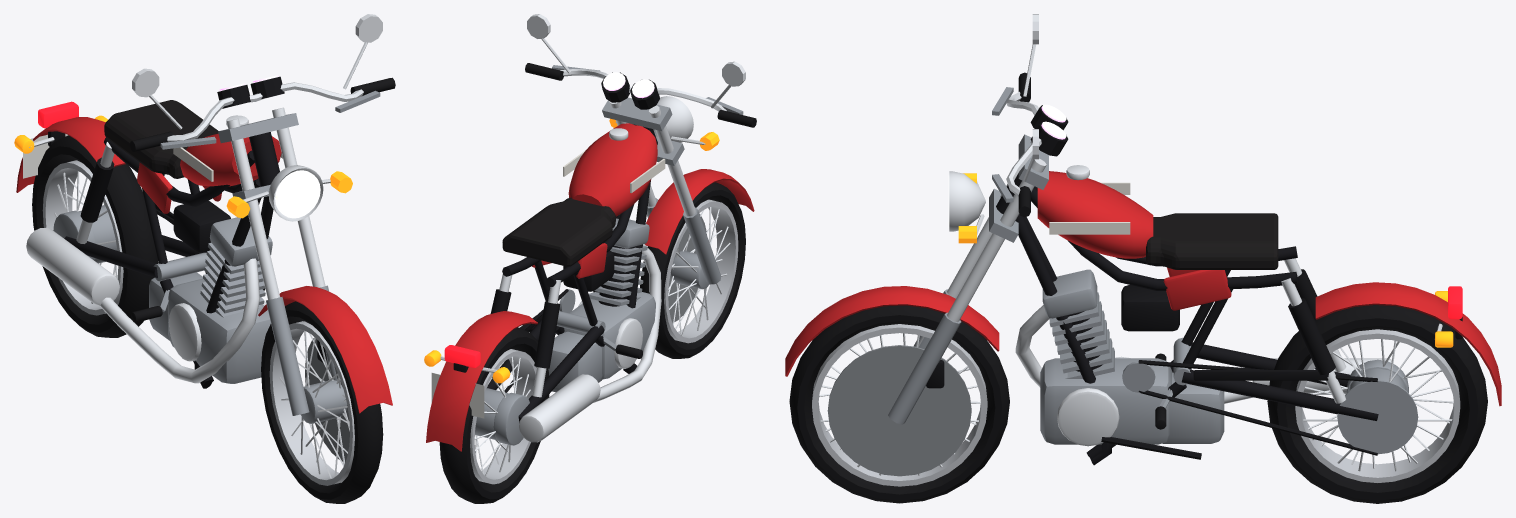
File: palm-rider-125.glb
3 views of the same model, side by side, from view 1: azimuth 30°, elevation 25°; view 2: azimuth 150°, elevation 25°; view 3: azimuth 270°, elevation 25° (orthographic). The views are drawn at different scales.
Visible parts, largest first — view 1: FrontForkMesh, Engine, Rim_F, Tire_R, Exhaust, Frame, Tire_F, Rim_R, Seat, Bodywork, FuelTank, SwingarmMesh (+2 smaller); view 2: FrontForkMesh, Engine, Rim_F, FuelTank, Bodywork, Frame, Rim_R, Seat, Exhaust, Tire_R, Tire_F, SwingarmMesh (+2 smaller); view 3: Engine, Rim_F, FrontForkMesh, Tire_R, SwingarmMesh, Tire_F, Frame, Rim_R, FuelTank, Seat, Bodywork, Exhaust (+1 smaller).
Part boxes in pixels (box(x1,y1,x2,y2)): FrontForkMesh: box(130, 14, 395, 415); Engine: box(149, 200, 272, 383); Rim_F: box(269, 321, 354, 485); Tire_R: box(32, 135, 158, 337); Exhaust: box(26, 227, 259, 383); Frame: box(76, 132, 279, 388); Tire_F: box(261, 301, 383, 503); Rim_R: box(42, 160, 123, 315); Seat: box(104, 100, 218, 178); Bodywork: box(16, 117, 221, 213); FuelTank: box(173, 115, 282, 186); SwingarmMesh: box(64, 204, 209, 281); FrontForkMesh: box(525, 14, 756, 284); Engine: box(548, 218, 655, 392); Rim_F: box(664, 199, 738, 343); FuelTank: box(563, 123, 665, 216); Bodywork: box(426, 243, 607, 451); Frame: box(490, 124, 657, 397); Rim_R: box(470, 349, 536, 484); Seat: box(502, 197, 615, 266); Exhaust: box(519, 244, 661, 442); Tire_R: box(439, 327, 549, 503); Tire_F: box(640, 182, 745, 358); SwingarmMesh: box(487, 289, 605, 422); Engine: box(1040, 269, 1224, 446); Rim_F: box(812, 324, 987, 486); FrontForkMesh: box(785, 14, 1068, 424); Tire_R: box(1267, 305, 1487, 503); SwingarmMesh: box(1122, 337, 1418, 455); Tire_F: box(789, 305, 1009, 503); Frame: box(996, 173, 1346, 465); Rim_R: box(1295, 329, 1460, 482); FuelTank: box(1037, 165, 1153, 258); Seat: box(1146, 213, 1278, 269); Bodywork: box(1163, 267, 1501, 406); Exhaust: box(1015, 305, 1391, 403).
Size of the model in its own units: 0.86 by 1.29 by 1.95.
